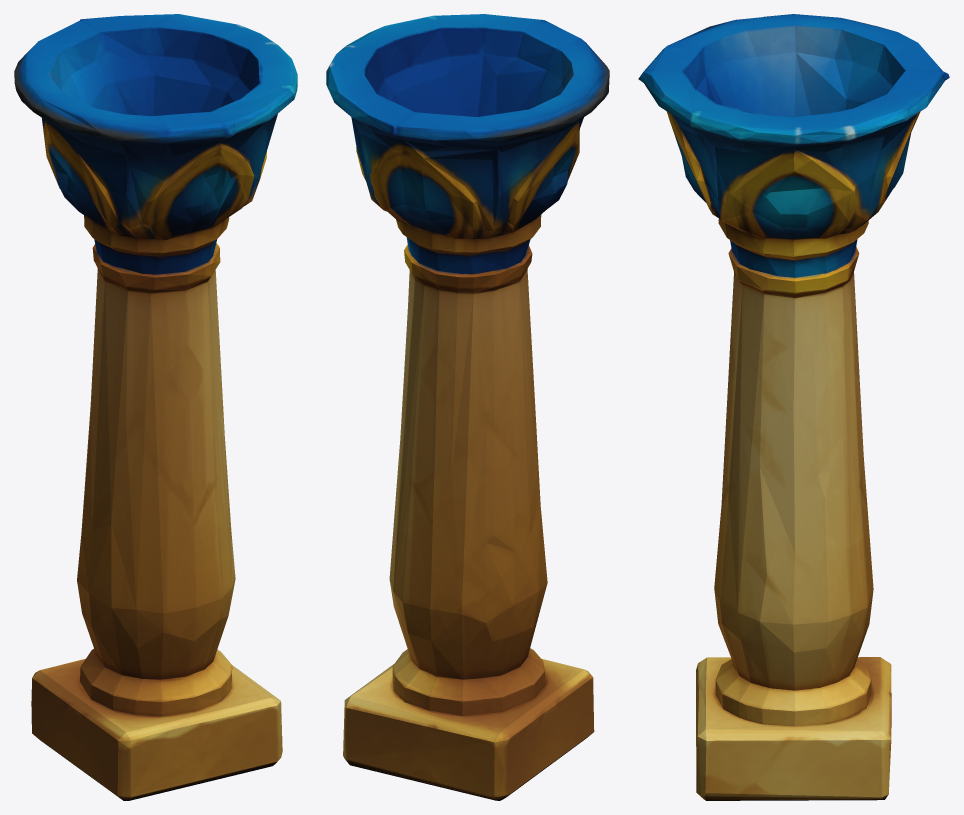
The model's file is desert_column.glb.
The picture shows the model from 3 angles, left to right: view 1: azimuth 30°, elevation 25°; view 2: azimuth 150°, elevation 25°; view 3: azimuth 270°, elevation 25°; orthographic projection.
Parts seen in each view (by area): view 1: world; view 2: world; view 3: world.
Boxes of the visible parts, x1,y1,x2,y2 form: world: (14, 14, 297, 800); world: (326, 14, 609, 800); world: (638, 14, 949, 800).
Bounding box in the file's own units: 0.3788 × 1 × 0.4079.
Materials: 1 (1 with a texture image).
